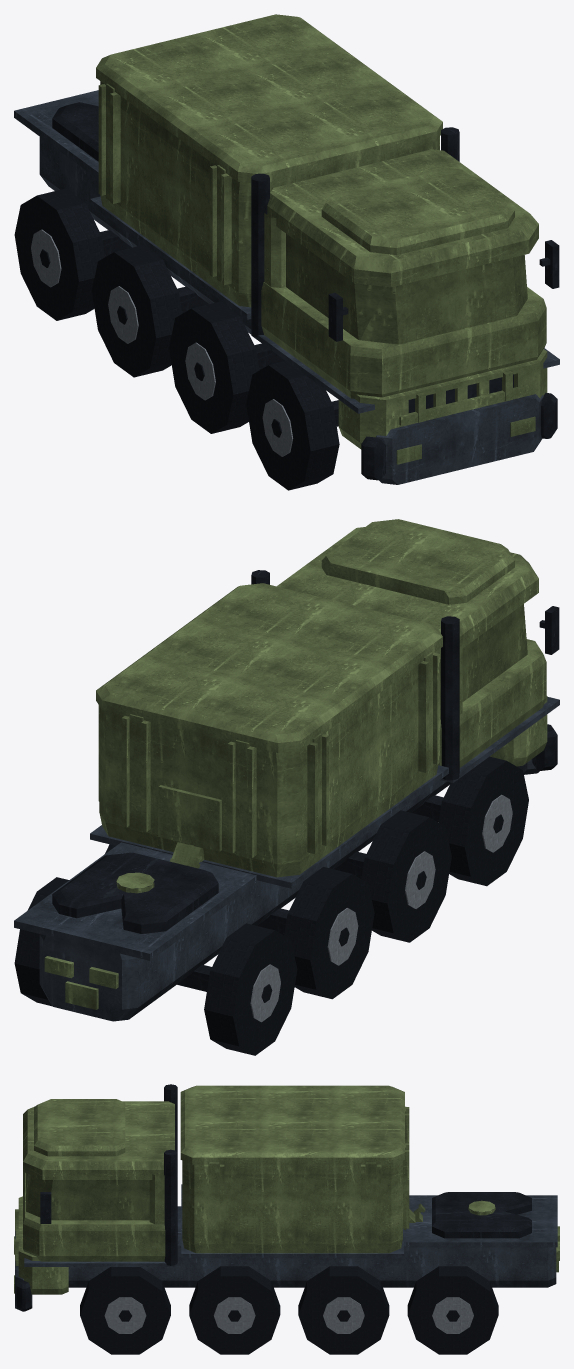
File: near_sam.glb
3 renders of one model, top to bottom at view 1: azimuth 30°, elevation 25°; view 2: azimuth 150°, elevation 25°; view 3: azimuth 270°, elevation 25°, orthographic. The views are drawn at different scales.
Parts seen in each view (by area): view 1: eight-wheel-industrial-hauler, wheel-1r, wheel-4r, wheel-3r, wheel-2r; view 2: eight-wheel-industrial-hauler, wheel-4r, wheel-3r, wheel-2r, wheel-1r, wheel-4l; view 3: eight-wheel-industrial-hauler, wheel-4l, wheel-3l, wheel-2l, wheel-1l.
Part boxes in pixels (x1,y1,x2,y2): eight-wheel-industrial-hauler: (14,14,559,484); wheel-1r: (246,361,339,490); wheel-4r: (14,188,104,320); wheel-3r: (92,245,182,377); wheel-2r: (169,301,259,433); eight-wheel-industrial-hauler: (14,519,559,1021); wheel-4r: (204,923,297,1055); wheel-3r: (284,867,374,999); wheel-2r: (361,810,451,942); wheel-1r: (438,756,528,886); wheel-4l: (14,877,68,1006); eight-wheel-industrial-hauler: (14,1084,559,1311); wheel-4l: (407,1266,498,1354); wheel-3l: (298,1266,389,1354); wheel-2l: (189,1266,280,1354); wheel-1l: (80,1267,170,1354).
Bounding box in the file's own units: 4 × 4.8 × 12.
Materials: 2 (2 with a texture image).
